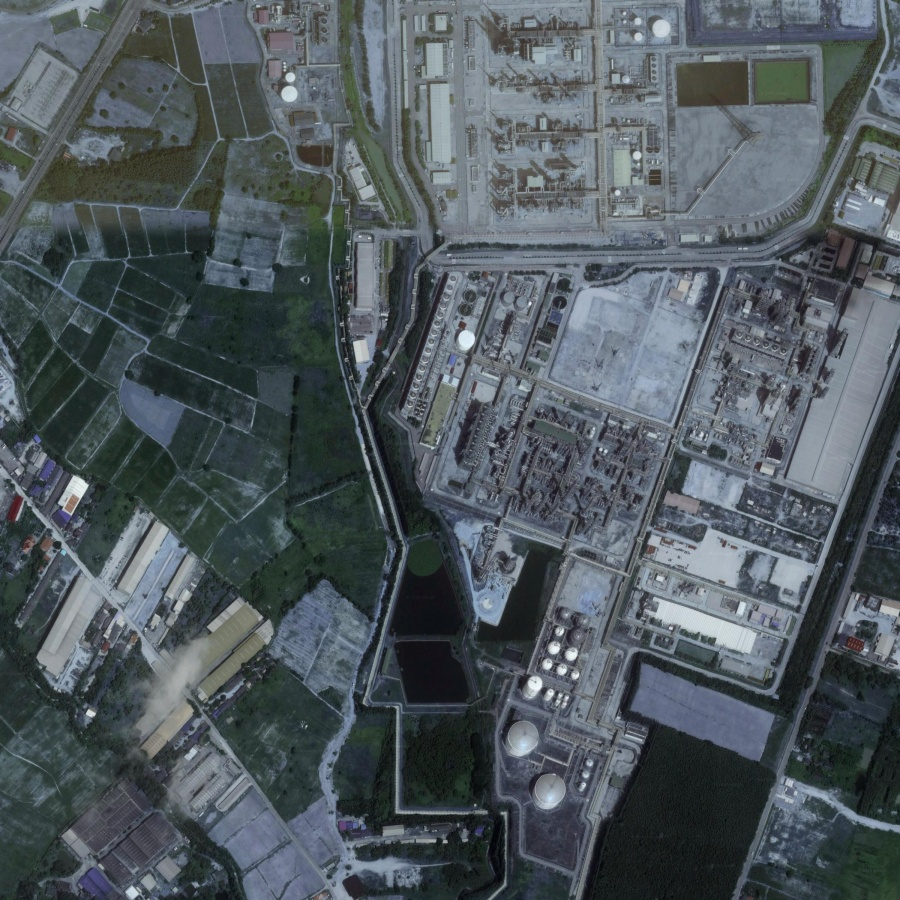PowerPlant: (416, 363, 667, 822)
